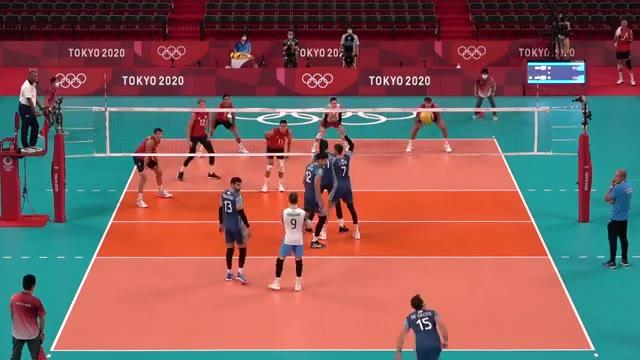ball: (418, 111, 437, 124)
